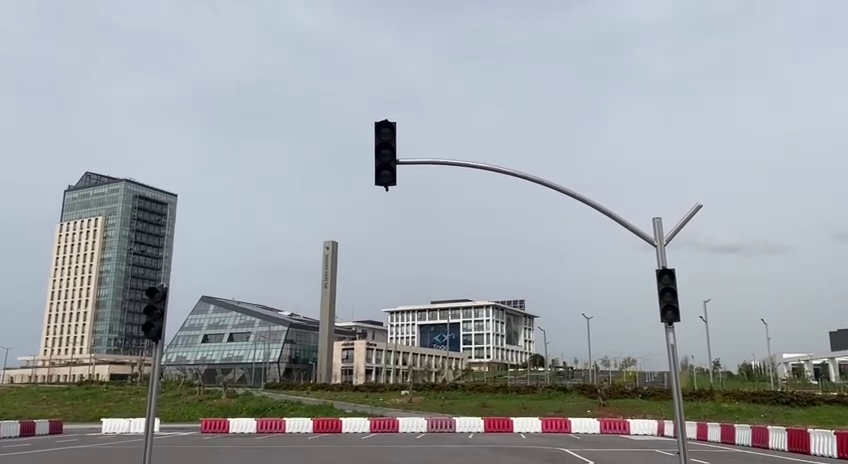trafficLight: (369, 116, 401, 193), (138, 281, 172, 347), (651, 265, 685, 328)
